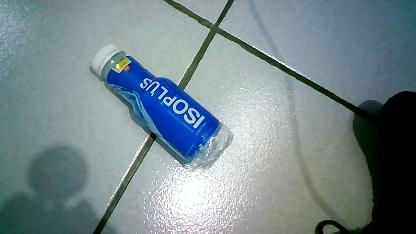Plastic Bottle: (89, 41, 233, 173)
